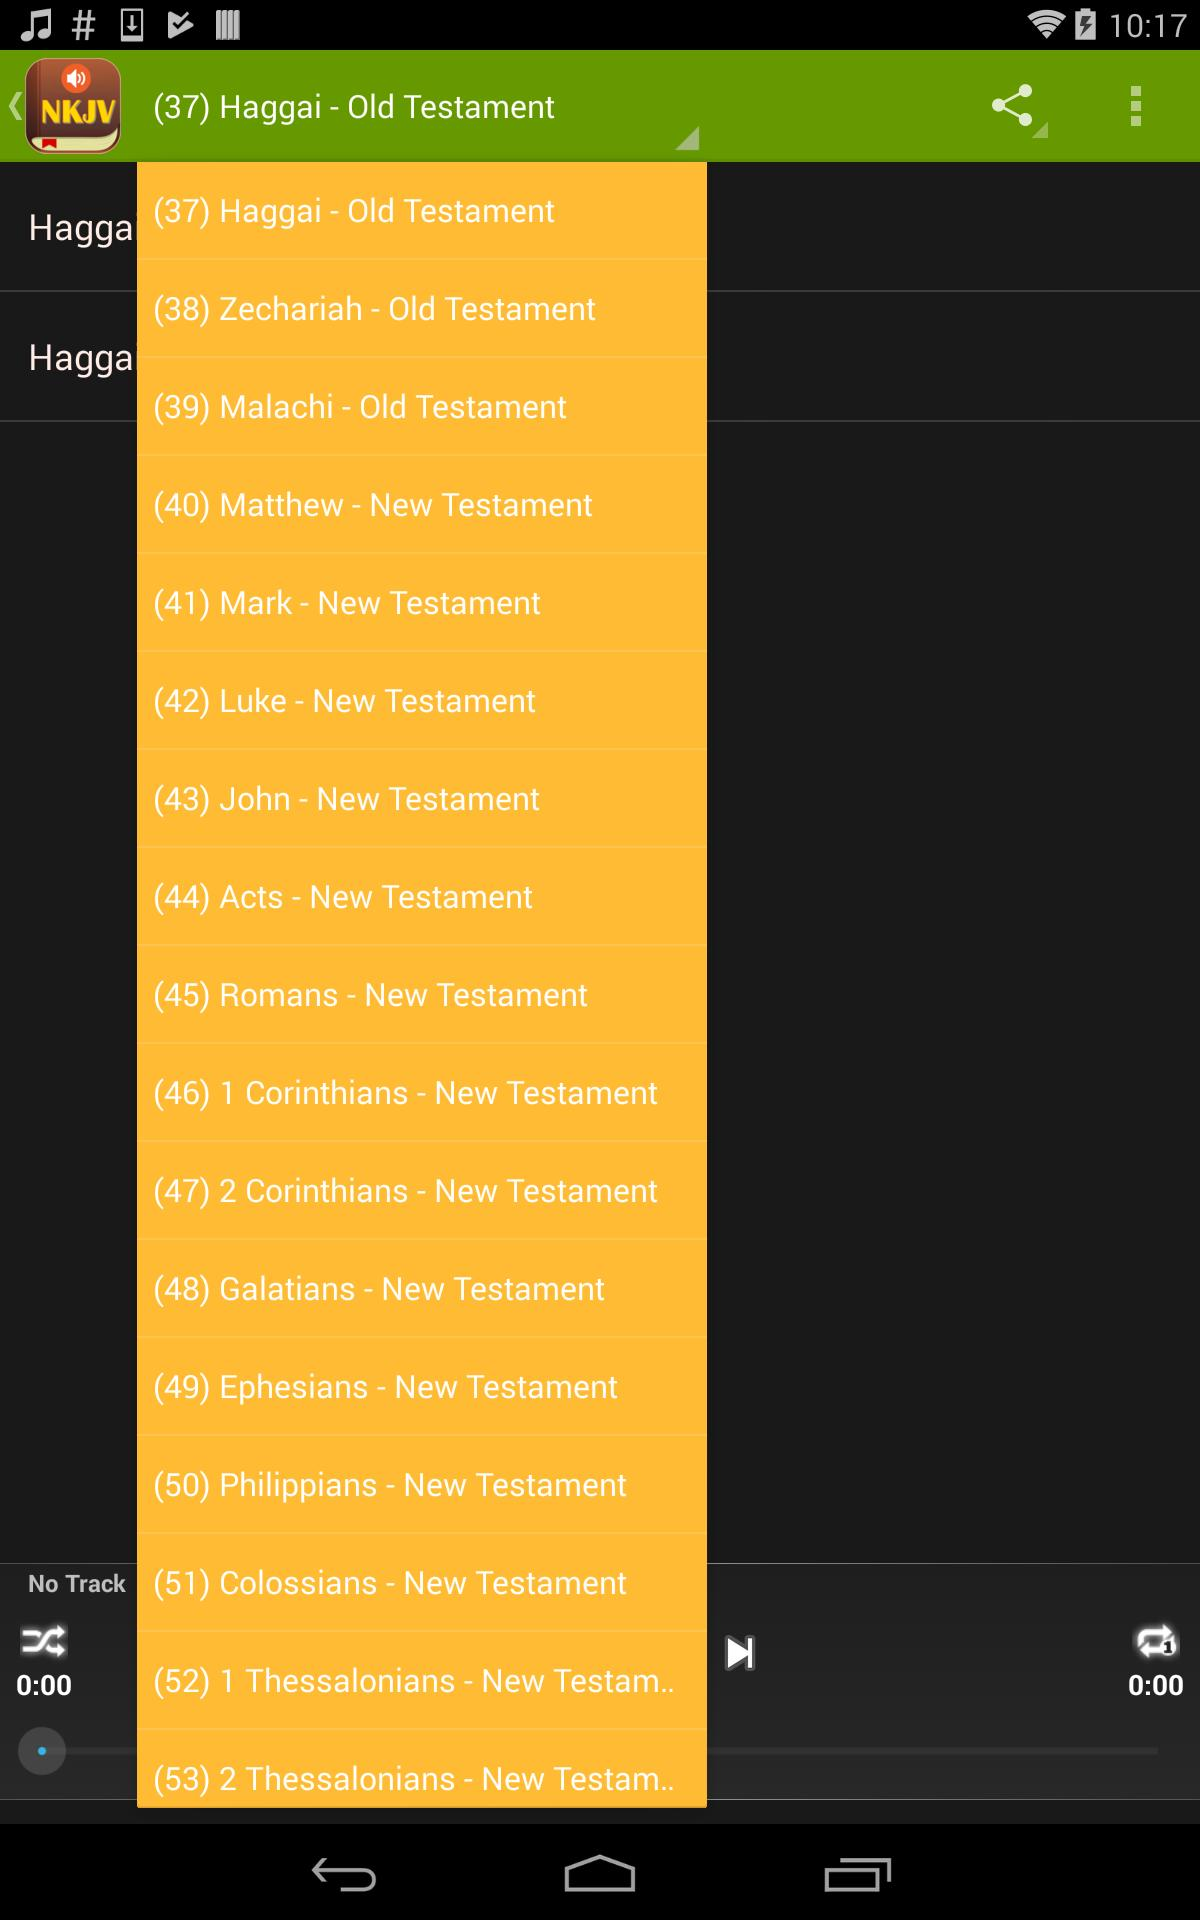android.widget.FrameLayout: (122, 147, 723, 1825)
android.widget.TextView: (137, 162, 706, 258), (137, 260, 706, 357), (137, 847, 706, 944), (137, 945, 706, 1042), (137, 1044, 706, 1140), (137, 1142, 706, 1239), (137, 1240, 706, 1337), (137, 358, 706, 453), (137, 456, 706, 552), (137, 554, 706, 650), (137, 652, 706, 748), (137, 751, 706, 846), (137, 1338, 706, 1433), (137, 1436, 706, 1532), (137, 1534, 706, 1630), (137, 1632, 706, 1728), (137, 1731, 706, 1826)
